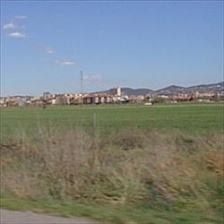neutral: (2, 1, 224, 219)
